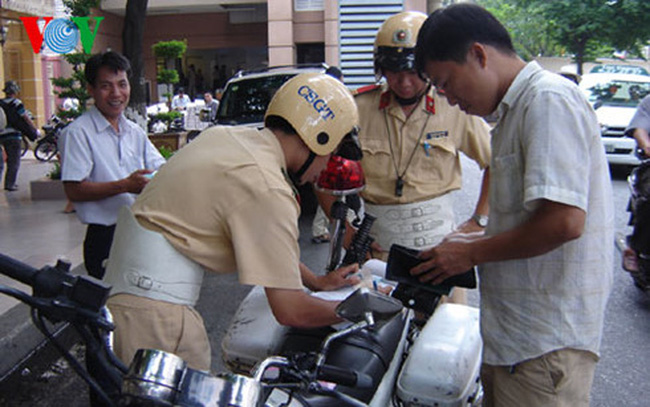police: (87, 58, 381, 386)
